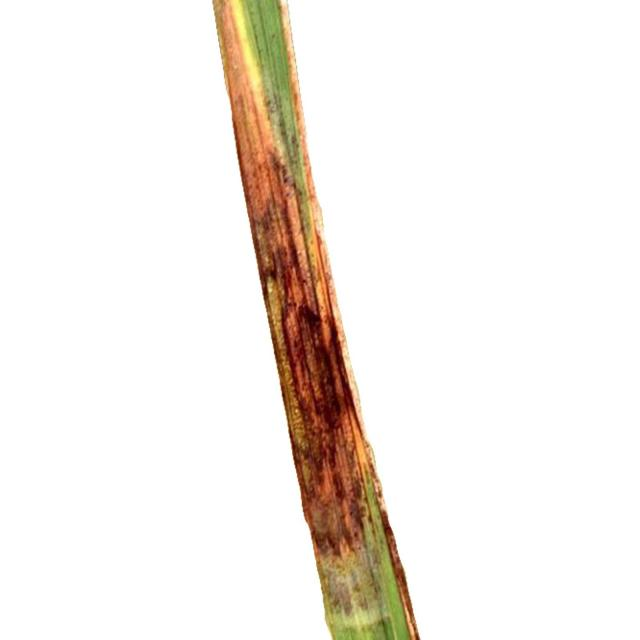Leaf scald: (188, 2, 477, 640)
